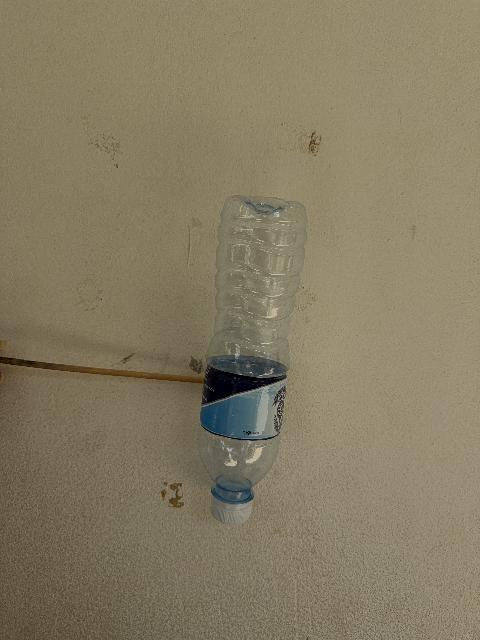bottle: (198, 196, 305, 523)
